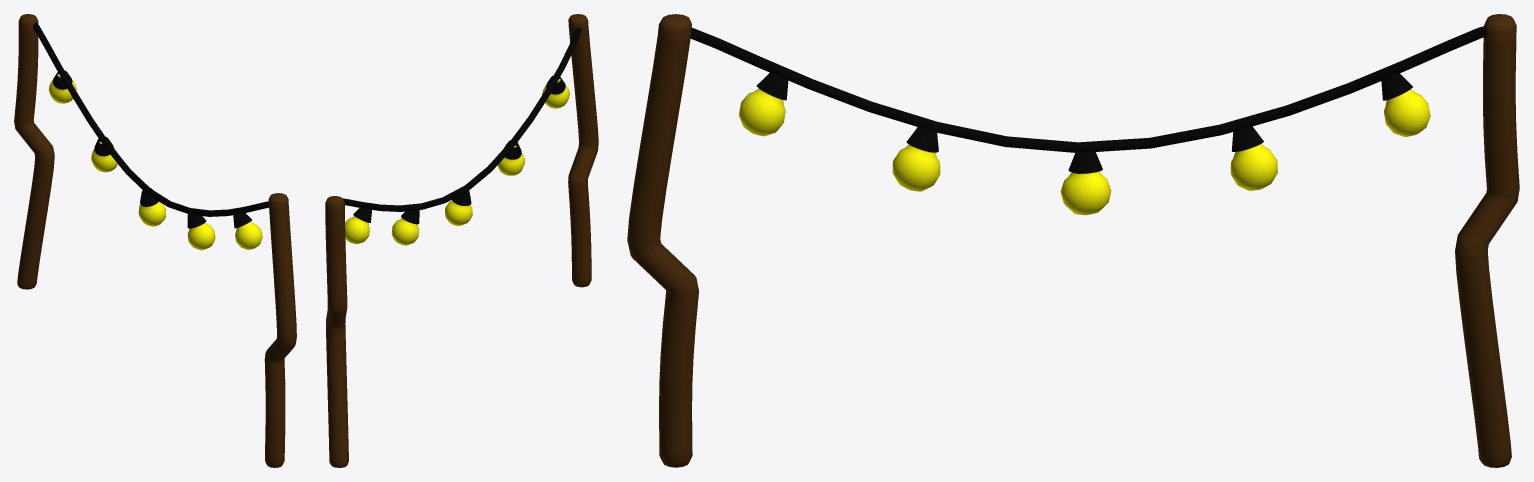
The model's file is Lampjes.fbx.
3 views of the same model, side by side, from view 1: azimuth 30°, elevation 25°; view 2: azimuth 150°, elevation 25°; view 3: azimuth 270°, elevation 25° (orthographic). The views are drawn at different scales.
Visible parts, largest first — view 1: Cube.003; view 2: Cube.003; view 3: Cube.003.
Boxes of the visible parts, box(x1,y1,x2,y2) form: Cube.003: box(14, 14, 296, 467); Cube.003: box(325, 14, 598, 467); Cube.003: box(627, 14, 1519, 467).
Size of the model in its own units: 5.6 by 45.02 by 80.94.
